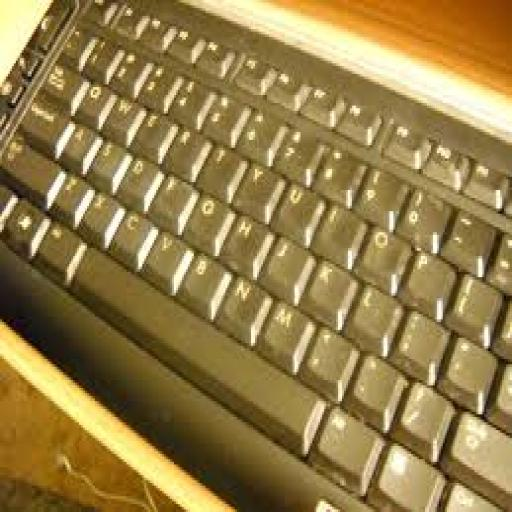KEYBOARD-2: (0, 0, 510, 509)
